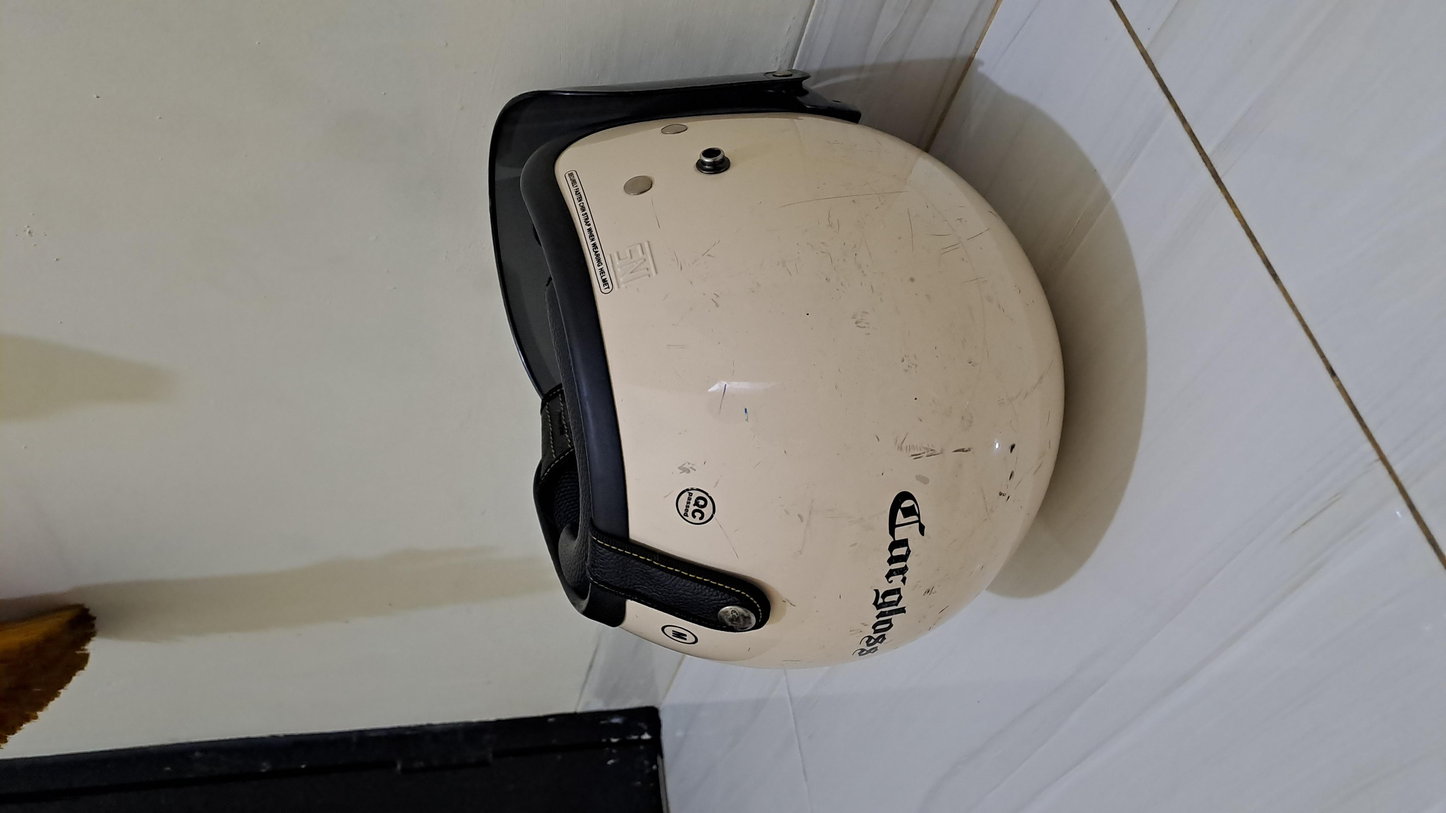helmet: (239, 281, 1346, 604)
